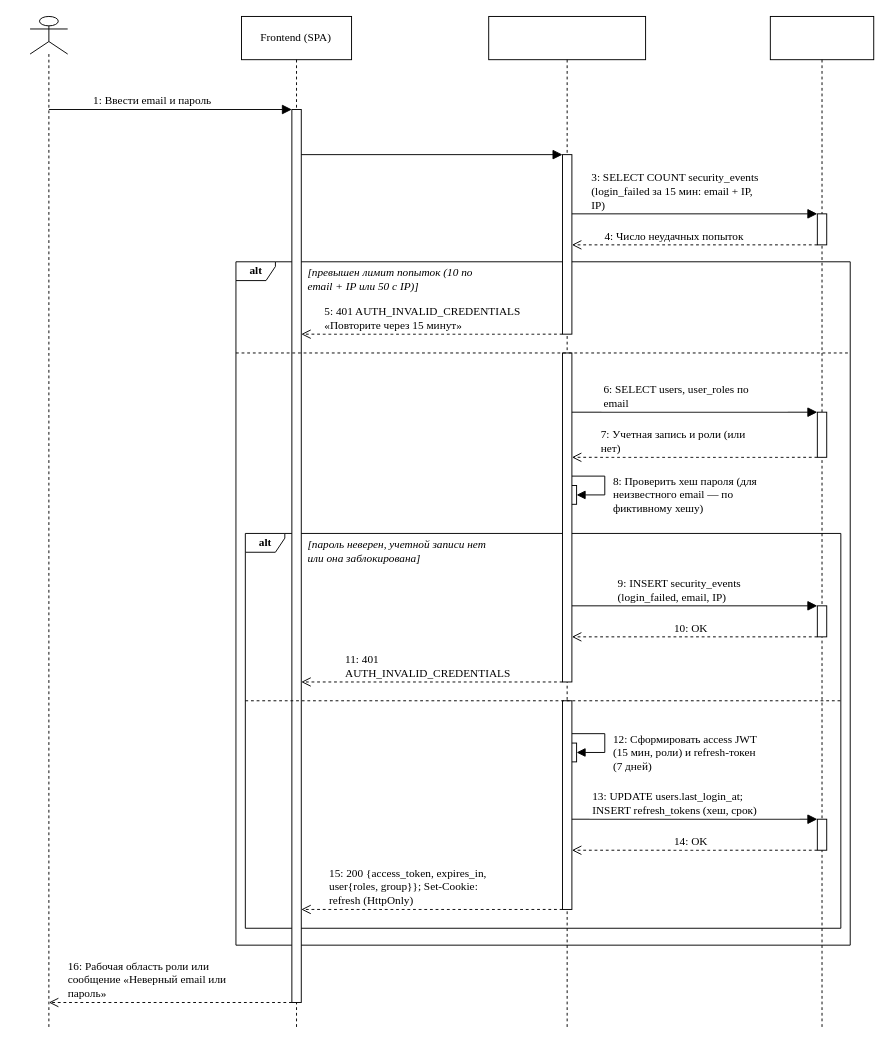
Some shapes in this 890 by 1045 pixel diagram are drawn without their labels. Here are the shapes that lost their labels. From the top down, the box of each, then its label:
(337, 123, 525, 153): 2: POST /api/auth/login {email, password}
(305, 356, 445, 372): [лимит не превышен]
(29, 16, 68, 1029): Пользователь
(488, 16, 646, 1029): Backend: модуль auth
(769, 16, 874, 1029): PostgreSQL
(305, 704, 496, 720): [данные верны, статус active]
